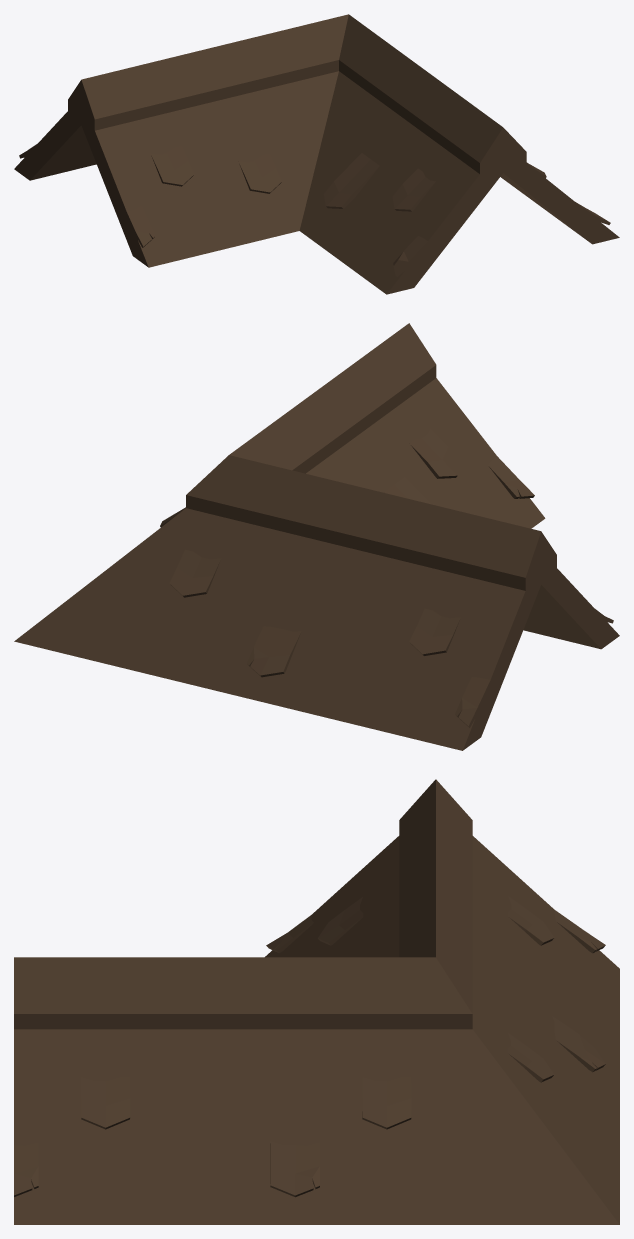
Rendered from roof-wood-center-top-corner-in.fbx.
3 views of the same model, one above another, from view 1: azimuth 30°, elevation 25°; view 2: azimuth 150°, elevation 25°; view 3: azimuth 270°, elevation 25° (orthographic). The views are drawn at different scales.
Parts seen in each view (by area): view 1: roof-wood-center-top-corner-in; view 2: roof-wood-center-top-corner-in; view 3: roof-wood-center-top-corner-in.
Part boxes in pixels (x1,y1,x2,y2): roof-wood-center-top-corner-in: [14, 14, 619, 294]; roof-wood-center-top-corner-in: [14, 323, 619, 750]; roof-wood-center-top-corner-in: [14, 779, 619, 1224].
Bounding box in the file's own units: 6.46 × 2.23 × 6.46.
